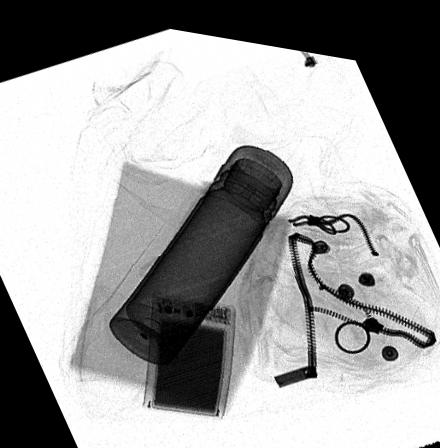Powerbank: (142, 286, 238, 410)
